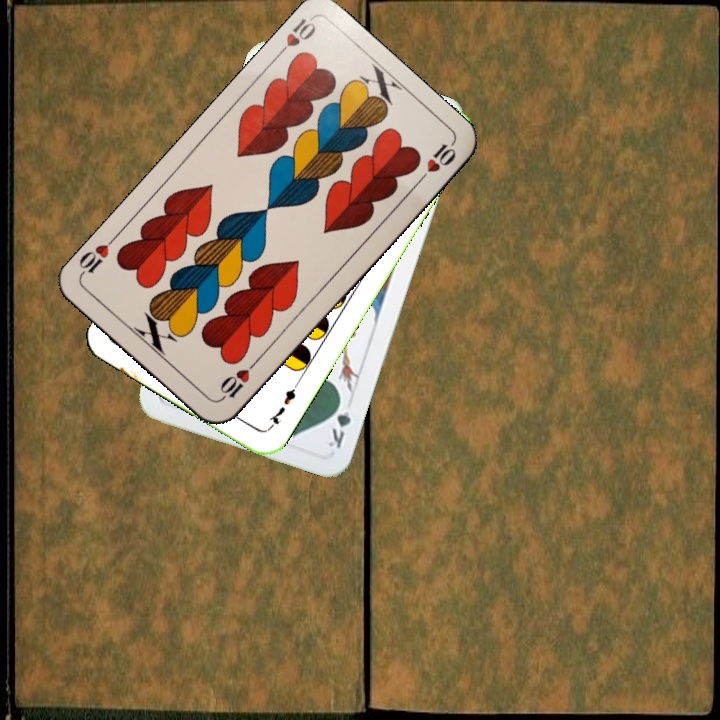E7: (264, 379, 301, 432)
GK: (324, 393, 354, 451)
H10: (271, 14, 319, 62), (215, 355, 261, 403)
